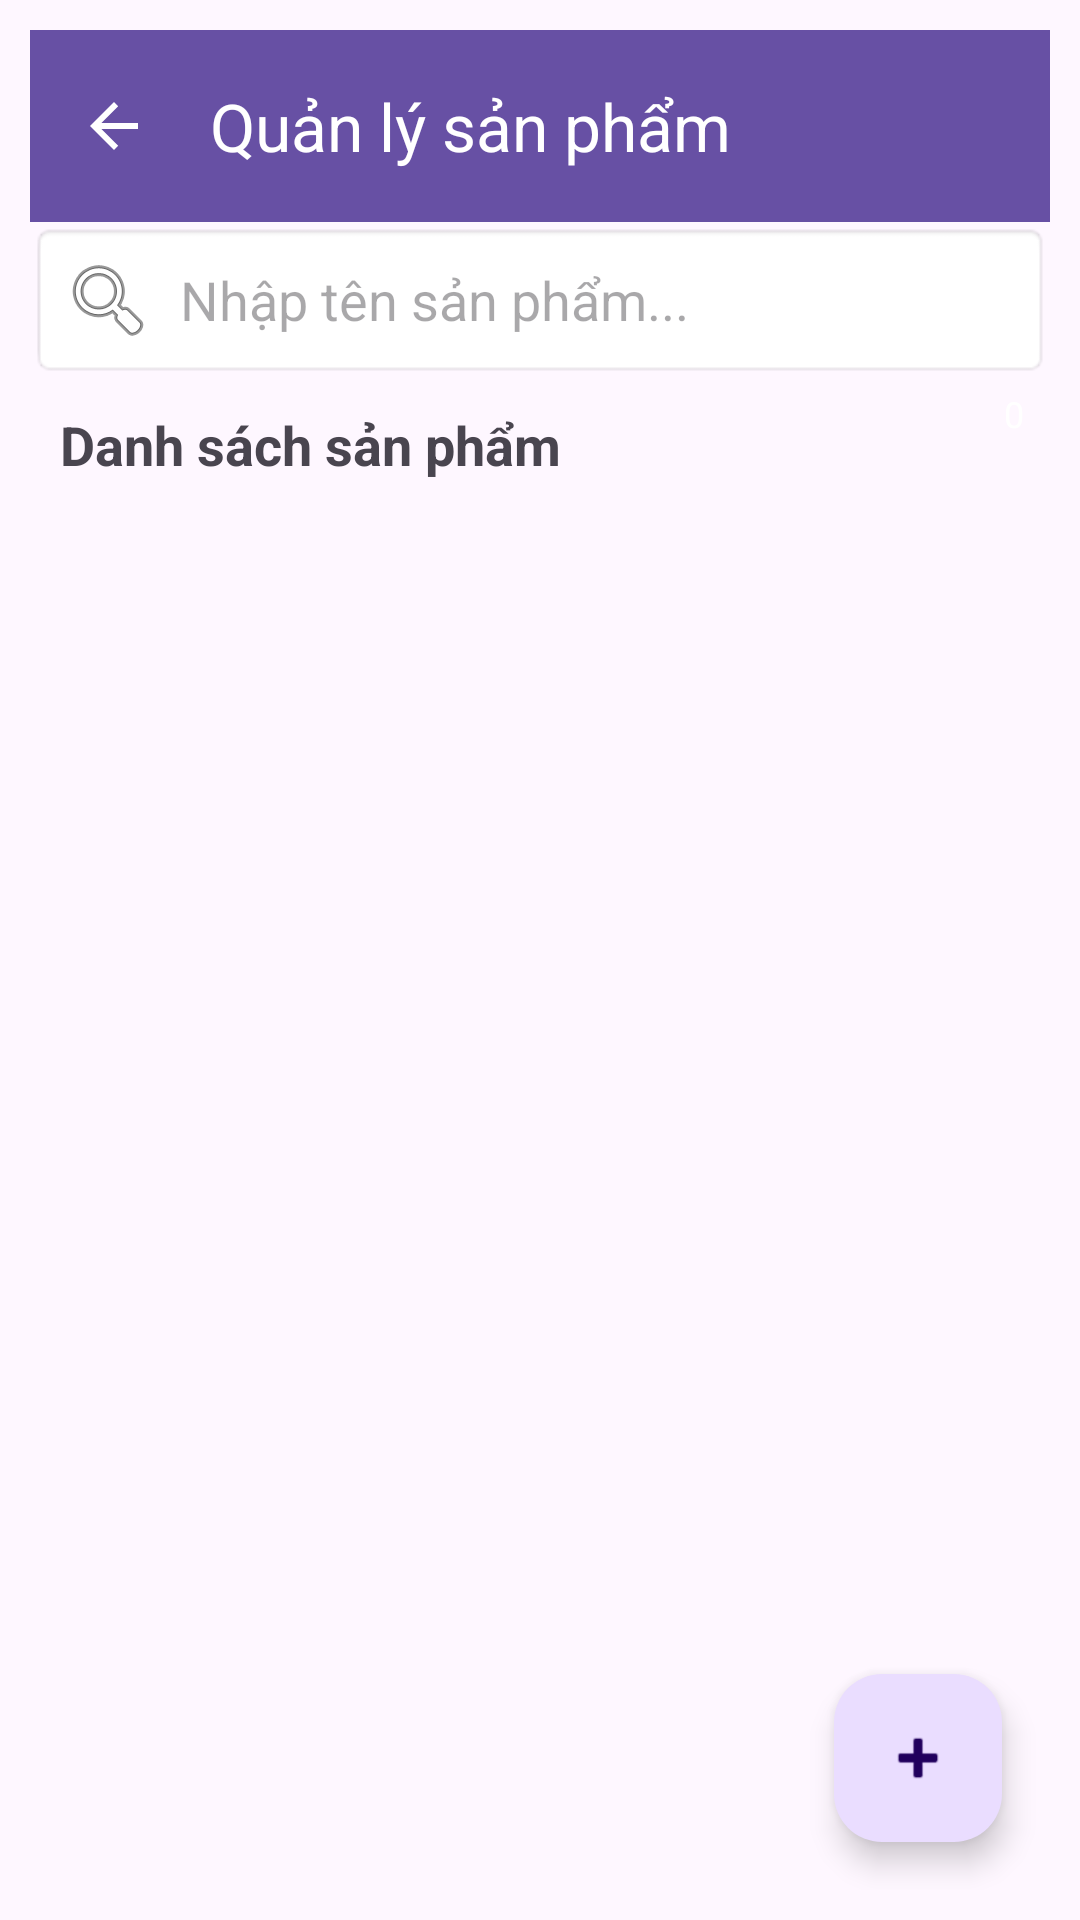

Icons on this 1080×1920 Android screen, each with the point to tap as point (x, y):
Thêm sản phẩm: point (918, 1758)
